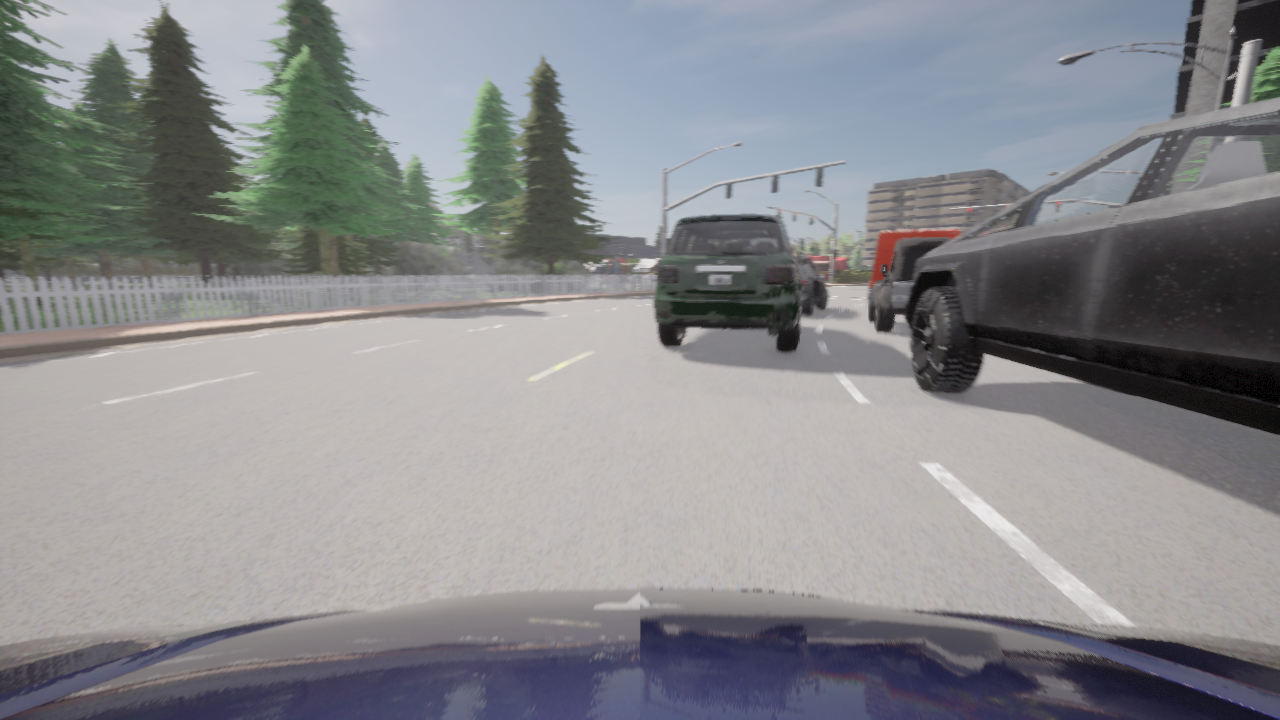cyclist: (0, 588, 1279, 719), (905, 98, 1279, 435), (655, 214, 807, 351), (869, 238, 953, 331), (867, 228, 960, 303), (798, 261, 827, 315)
